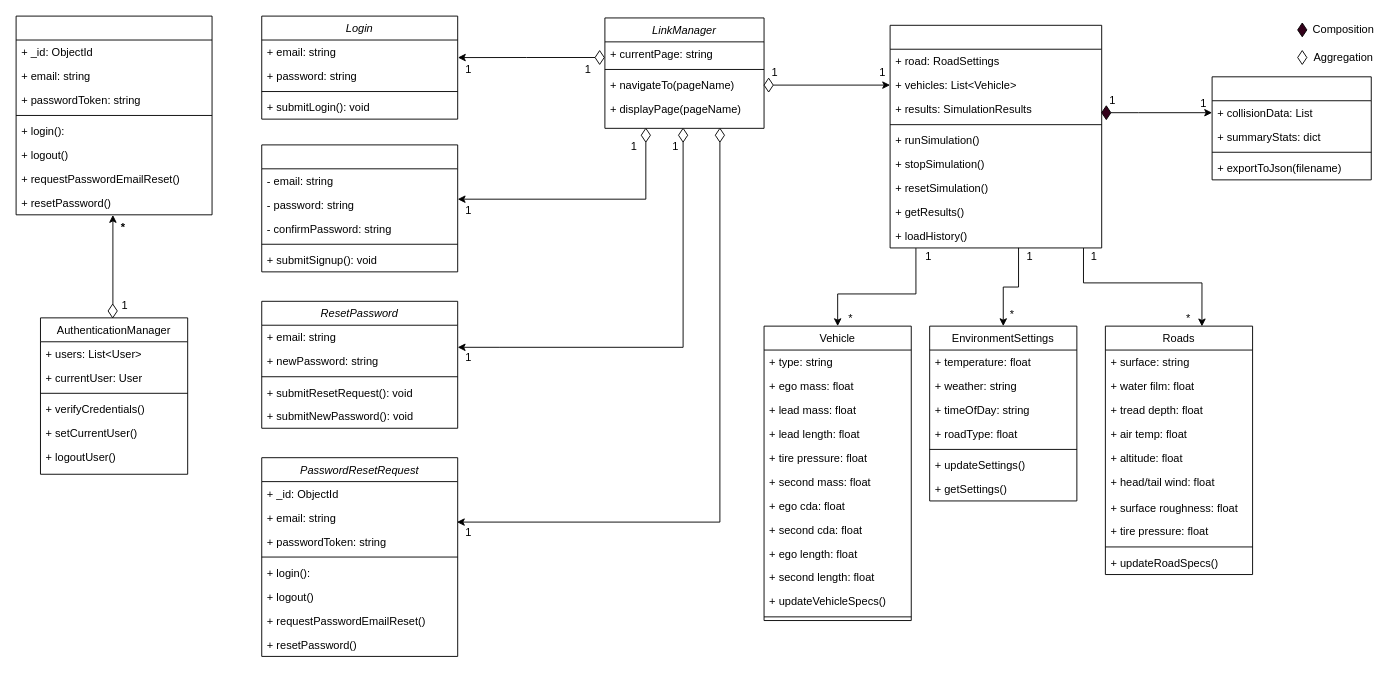
Image size: 1390x675. Some labels were removed from this diagram. Here are the shapes that lost their labels. From the top down, the box of each, then its label:
(15, 15, 212, 215): User
(1211, 76, 1371, 180): SimulationResults
(889, 24, 1102, 248): SimulationHub
(261, 144, 458, 272): CreateAccount
